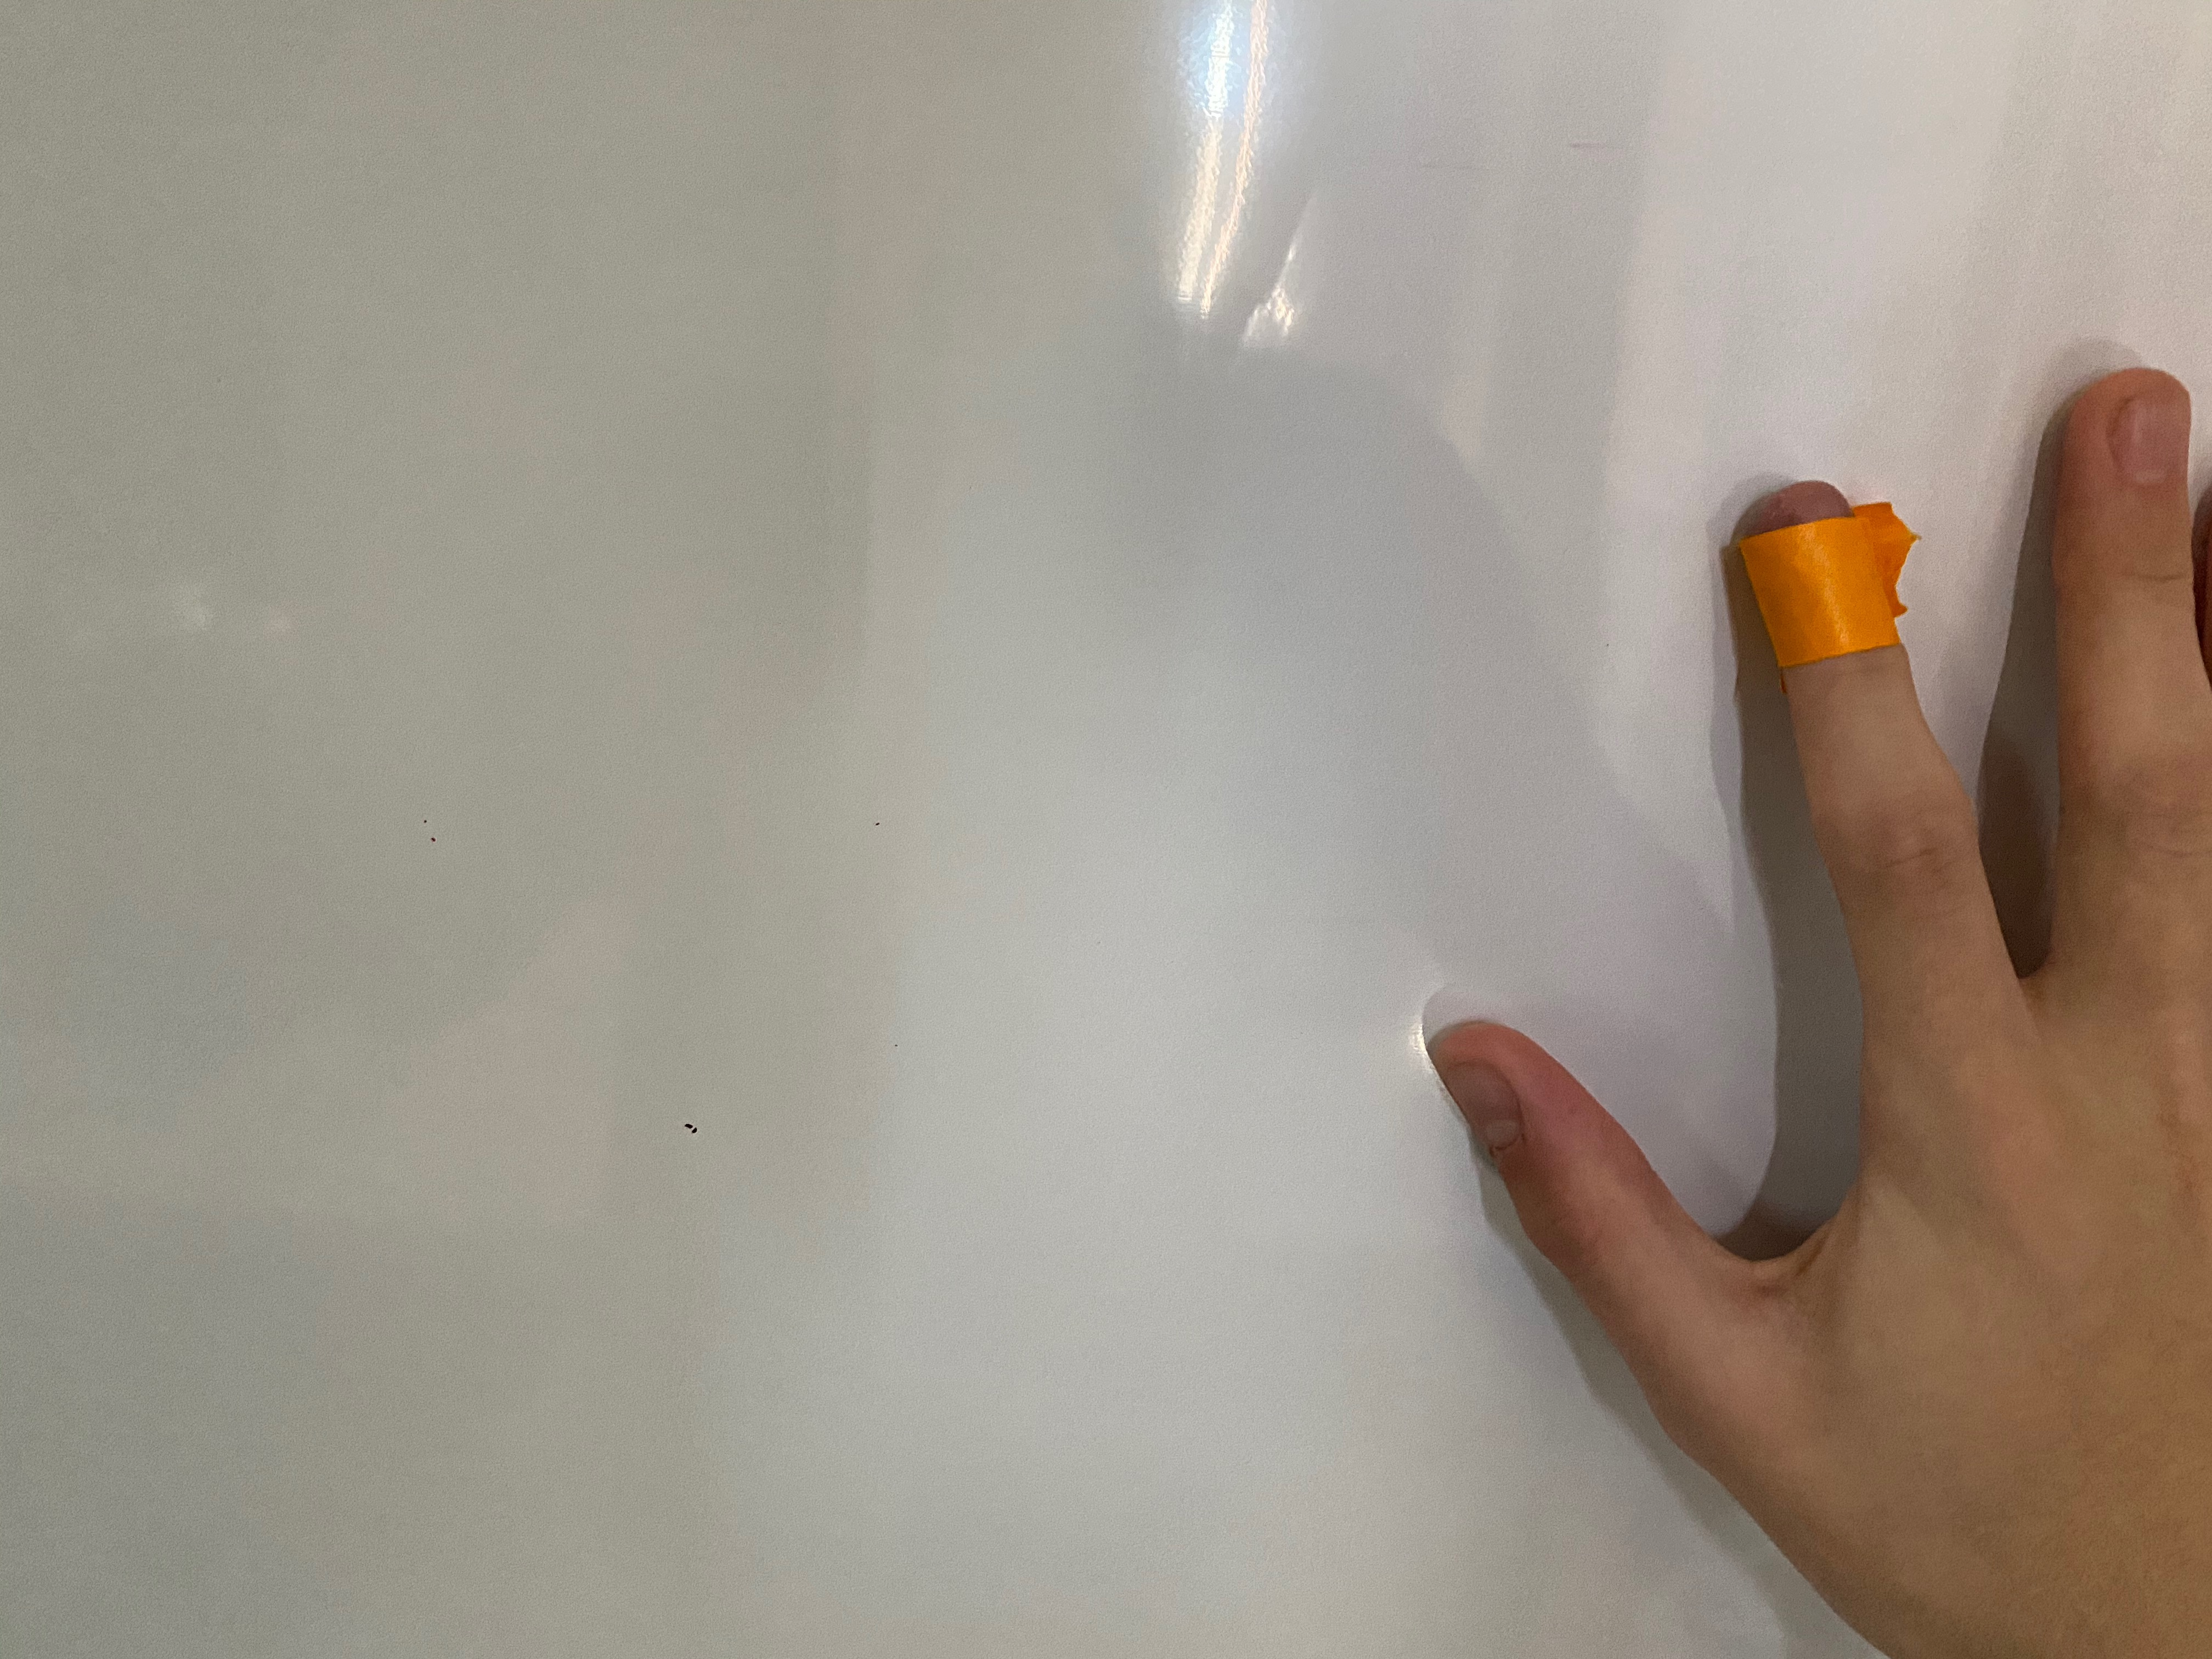fingertip: (1723, 472, 1956, 727)
